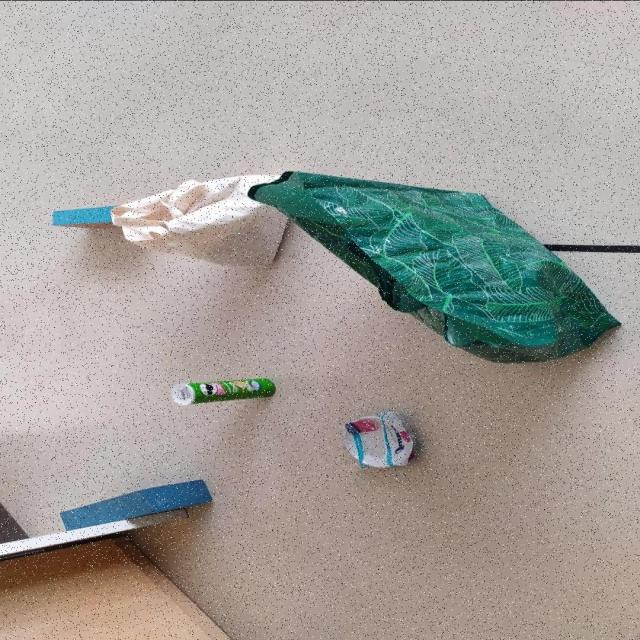Bag: (258, 171, 623, 366), (110, 172, 292, 268)
Plate: (337, 410, 415, 468)
Pringles: (170, 376, 277, 404)
